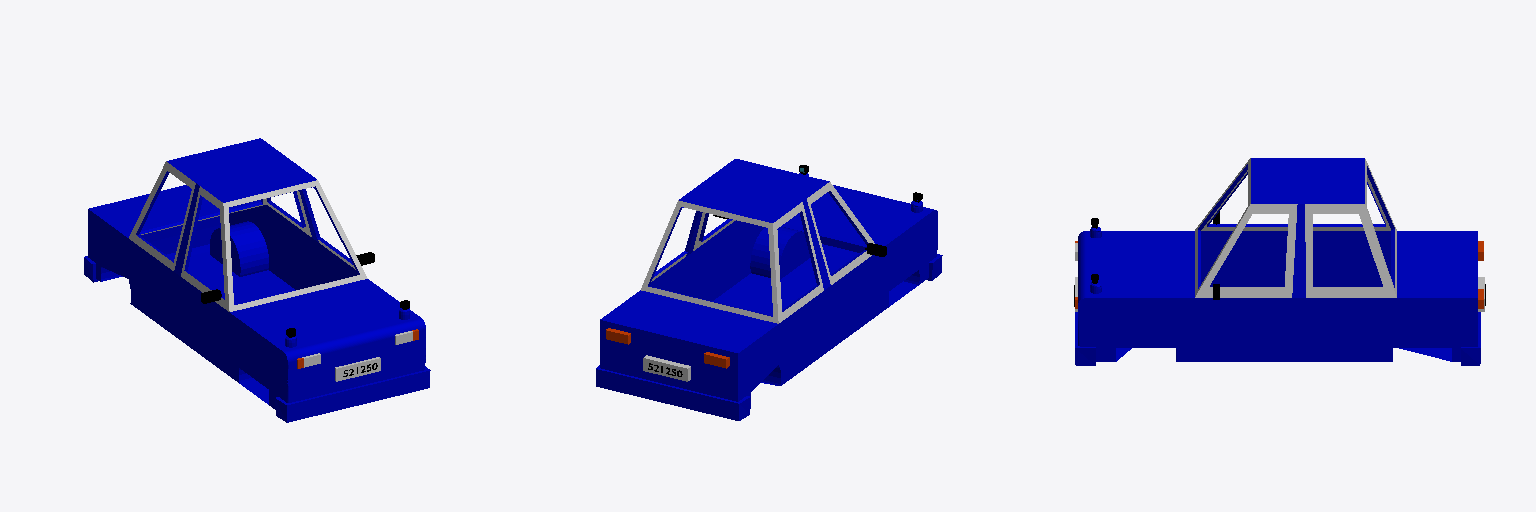
The model's file is corpo.obj.
3 views of the same model, side by side, from view 1: azimuth 30°, elevation 25°; view 2: azimuth 150°, elevation 25°; view 3: azimuth 270°, elevation 25° (orthographic).
Parts seen in each view (by area): view 1: Text.004_Text.005, Text.005_Text.006, Text.002_Text.003, Text.003_Text.004; view 2: Text.004_Text.005, Text.005_Text.006, Text.003_Text.004, Text.008_Text.009; view 3: Text.004_Text.005, Text.005_Text.006.
Boxes of the visible parts, x1,y1,x2,y2 form: Text.004_Text.005: [84, 138, 430, 422]; Text.005_Text.006: [129, 161, 367, 311]; Text.002_Text.003: [201, 252, 409, 337]; Text.003_Text.004: [335, 357, 380, 381]; Text.004_Text.005: [596, 159, 942, 420]; Text.005_Text.006: [641, 182, 874, 323]; Text.003_Text.004: [643, 355, 690, 381]; Text.008_Text.009: [606, 328, 729, 368]; Text.004_Text.005: [1075, 158, 1480, 365]; Text.005_Text.006: [1195, 158, 1396, 297].
Bounding box in the file's own units: 2.89 × 2.44 × 6.05.